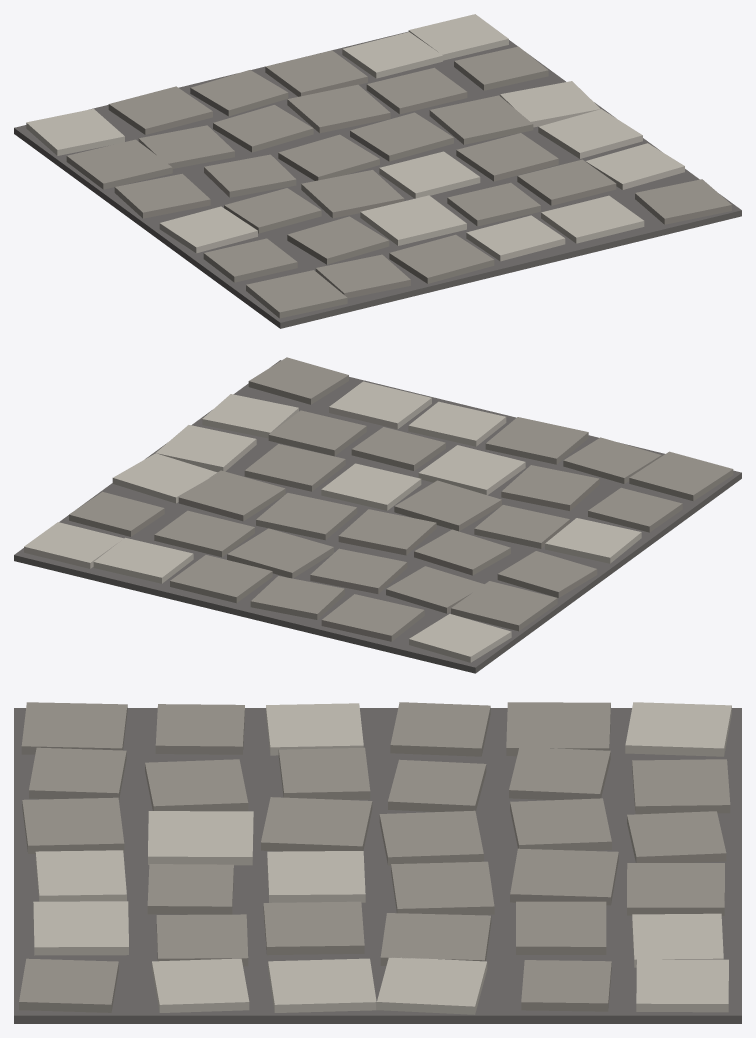
Rendered from L_MedTileCobble.fbx.
The picture shows the model from 3 angles, top to bottom: view 1: azimuth 30°, elevation 25°; view 2: azimuth 150°, elevation 25°; view 3: azimuth 270°, elevation 25°; orthographic projection. The views are drawn at different scales.
Visible parts, largest first — view 1: M_TileCobble; view 2: M_TileCobble; view 3: M_TileCobble.
Part boxes in pixels (x1,y1,x2,y2): M_TileCobble: (14,14,741,328); M_TileCobble: (14,357,741,673); M_TileCobble: (14,702,741,1023).
Bounding box in the file's own units: 4 × 0.1 × 4.
Materials: 1 (1 with a texture image).
